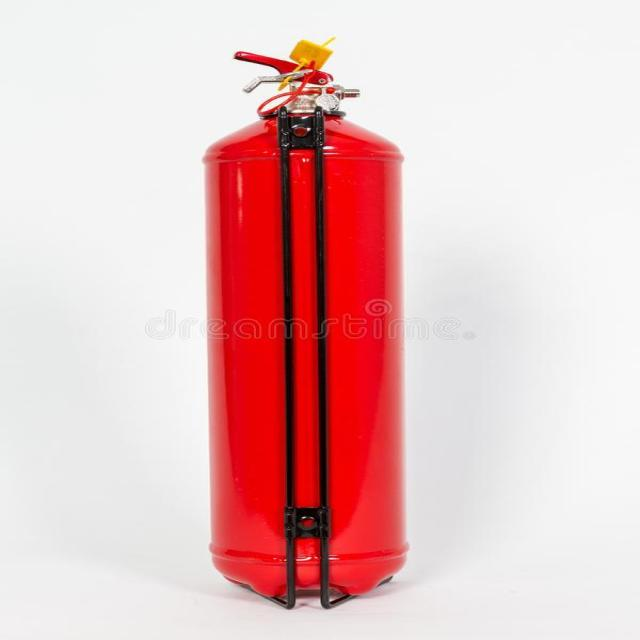fire_extinguisher: (197, 33, 417, 612)
